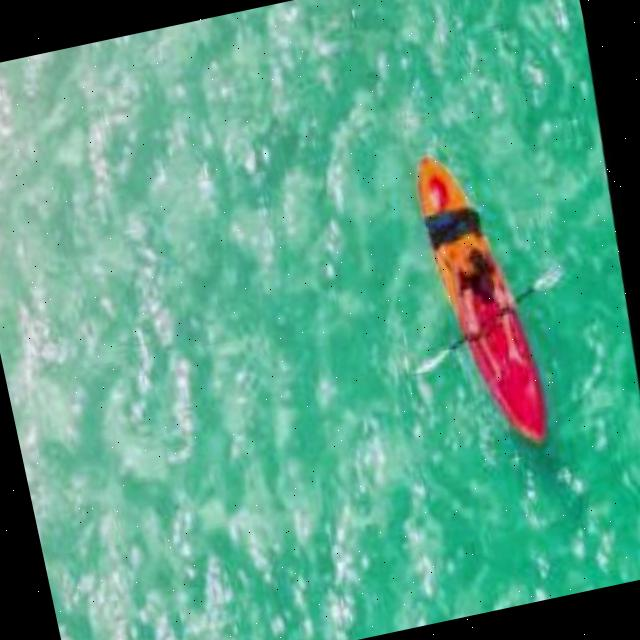kayak: (416, 152, 547, 430)
